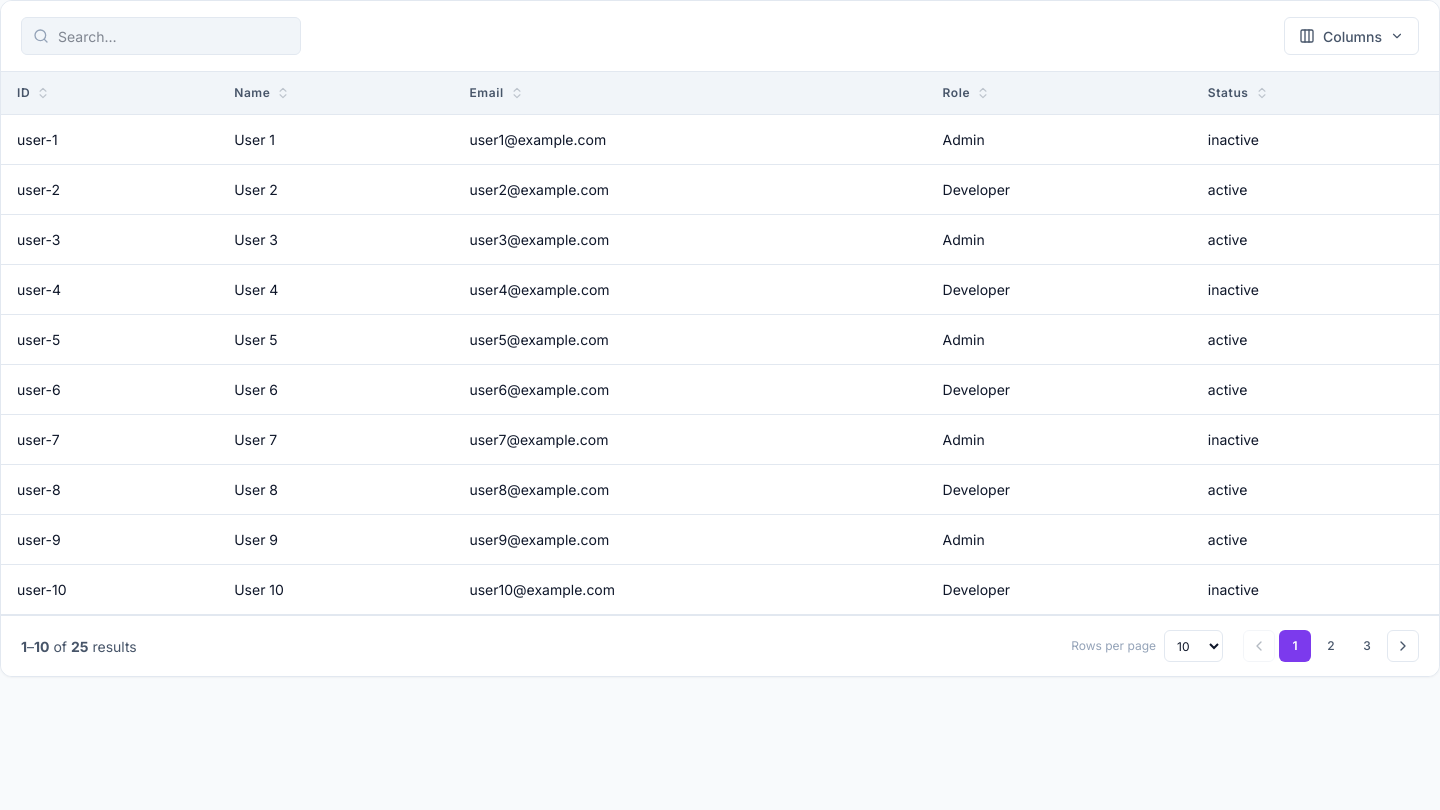
DataTable Infrastructure › filters data via global search input
The image size is (1440, 810).
In the search field with placeholder "Search…": (161, 36) [21,17,301,55], type "user10@example.com"
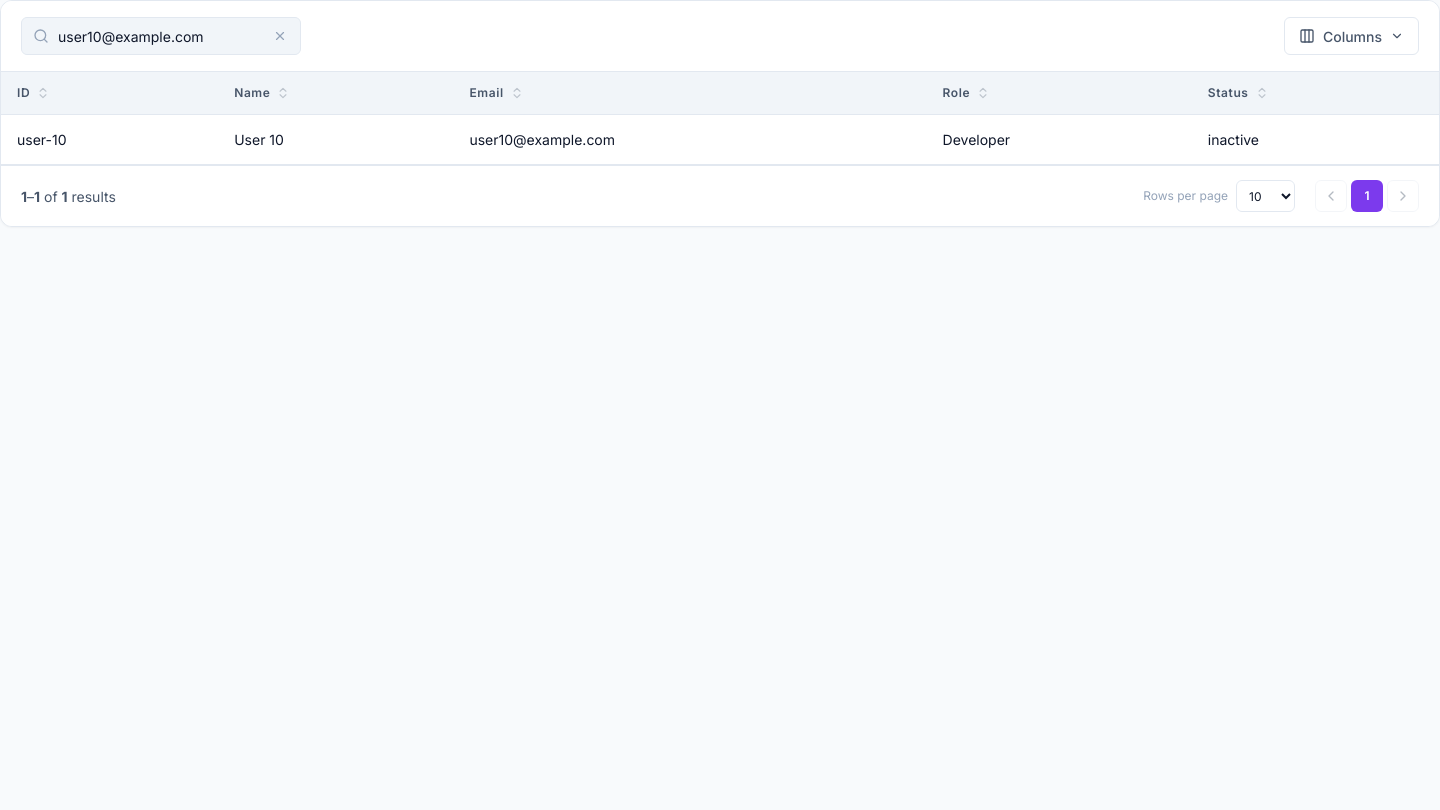
Expected: the text "user10@example.com" is shown, [454,115,927,165]
Expected: the text "user1@example.com" is gone
